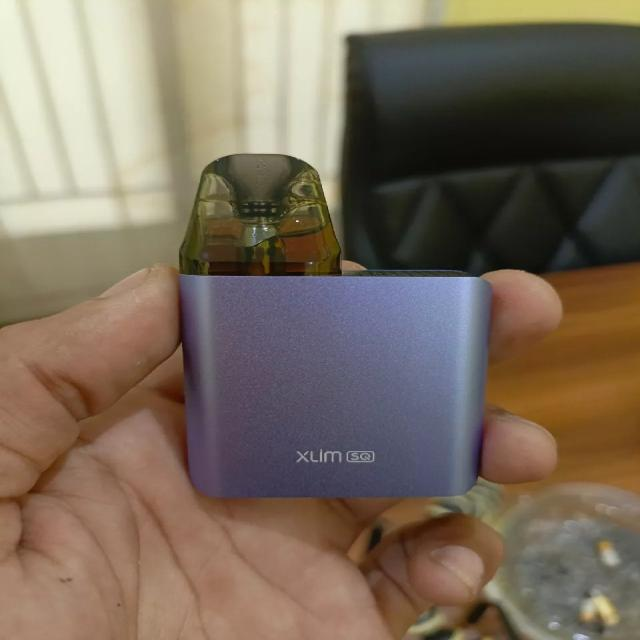Hazard: (171, 155, 500, 497)
